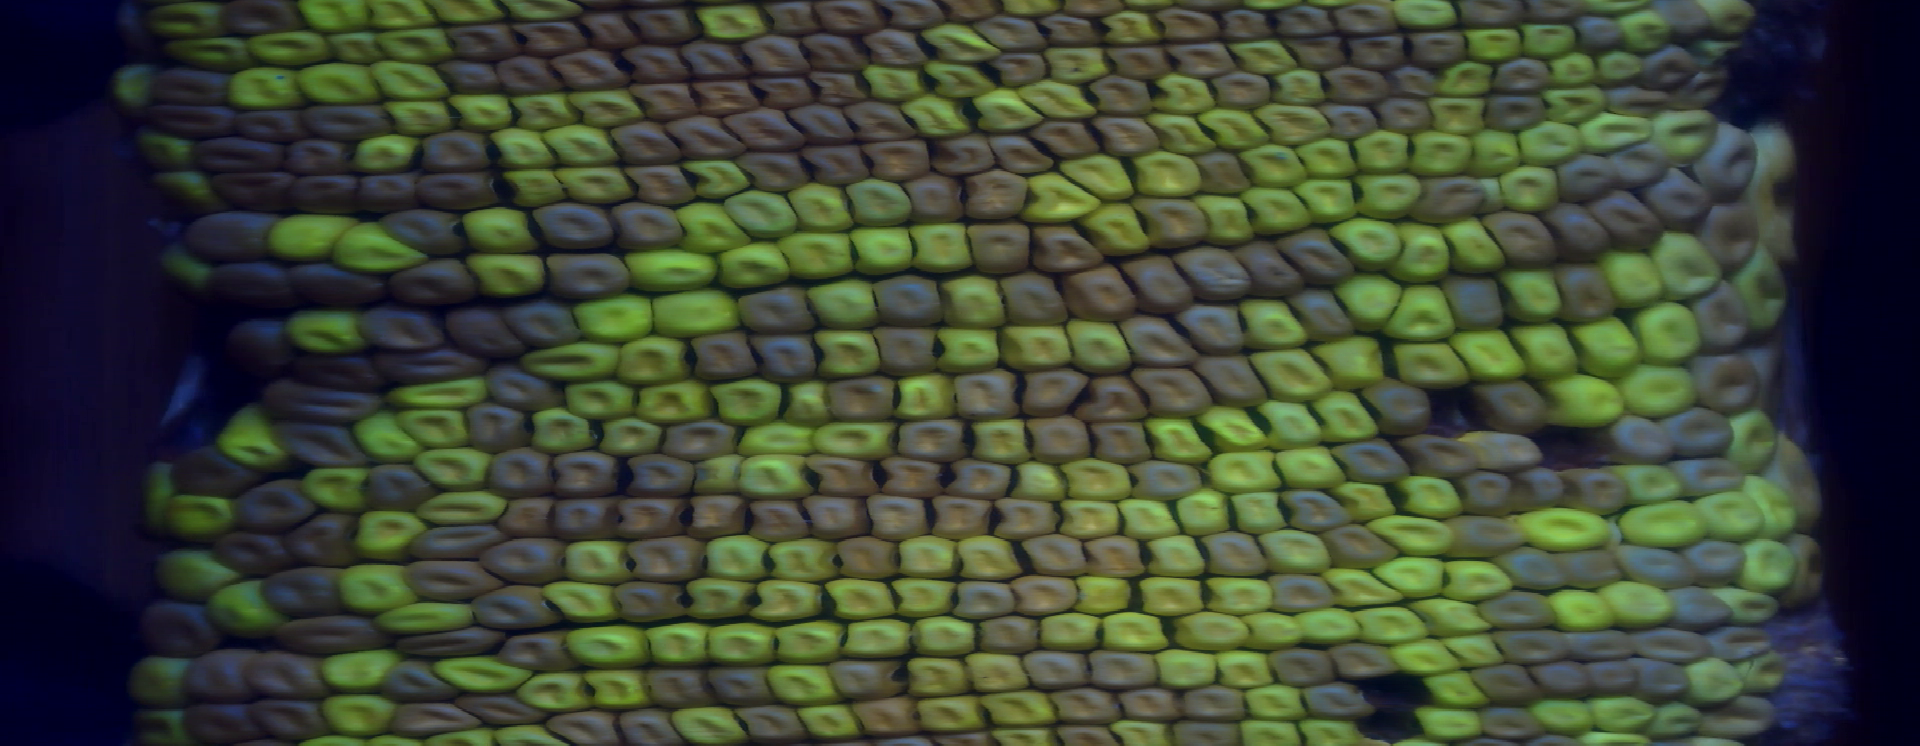fluorescent: (211, 394, 296, 479), (198, 575, 302, 643), (144, 544, 251, 610), (1647, 225, 1731, 307), (320, 218, 437, 277), (1727, 239, 1793, 341), (278, 300, 381, 363), (261, 207, 367, 267), (1626, 296, 1708, 372), (1512, 503, 1622, 560), (618, 241, 729, 296), (333, 559, 432, 620), (1442, 325, 1536, 390), (1245, 341, 1338, 405), (1615, 360, 1708, 425), (563, 287, 665, 345), (1614, 494, 1716, 552), (513, 334, 628, 386), (1379, 216, 1460, 288), (648, 283, 748, 341), (1538, 370, 1629, 434), (1058, 311, 1139, 382), (800, 271, 889, 334), (1566, 310, 1644, 382), (1330, 267, 1411, 337), (1385, 334, 1477, 396), (118, 650, 203, 715), (669, 197, 759, 258), (1018, 167, 1108, 228), (1491, 262, 1573, 330), (1380, 281, 1464, 345), (1309, 330, 1393, 394), (347, 505, 432, 568), (424, 650, 535, 699), (1504, 317, 1584, 385), (718, 185, 808, 245), (933, 268, 1015, 334), (1075, 195, 1158, 260), (1326, 213, 1411, 277), (380, 370, 495, 416), (538, 575, 631, 632), (457, 247, 553, 303), (456, 201, 546, 260), (1232, 290, 1316, 353), (1593, 245, 1673, 311), (770, 229, 863, 285), (1367, 511, 1466, 563), (806, 325, 893, 385), (316, 643, 413, 697), (1438, 212, 1513, 281), (1641, 104, 1720, 169), (913, 17, 1011, 70), (291, 56, 387, 110), (1692, 484, 1773, 548), (409, 483, 516, 530), (293, 463, 381, 521), (993, 320, 1085, 375), (156, 29, 258, 78), (611, 331, 697, 390), (887, 369, 969, 430), (350, 407, 429, 470), (560, 622, 659, 673), (628, 375, 720, 429), (408, 443, 500, 497), (313, 690, 405, 744), (840, 220, 922, 281), (1013, 75, 1106, 127), (1247, 99, 1340, 152), (1735, 469, 1802, 541), (1596, 577, 1680, 635), (1718, 404, 1784, 478), (703, 372, 785, 431), (784, 176, 861, 239), (696, 529, 775, 589), (1189, 189, 1262, 254), (713, 236, 793, 295), (732, 450, 820, 503), (560, 532, 640, 590), (574, 665, 666, 717), (1543, 582, 1625, 639), (767, 616, 856, 669), (1128, 148, 1211, 205), (1234, 183, 1318, 239), (1407, 592, 1494, 646), (1349, 165, 1429, 224), (364, 56, 457, 107), (1139, 107, 1223, 162), (638, 617, 719, 675), (1253, 394, 1333, 452), (1138, 412, 1218, 469), (1273, 440, 1354, 497), (1138, 528, 1218, 586), (1056, 148, 1138, 205), (763, 533, 849, 587), (1608, 456, 1693, 510), (1573, 108, 1665, 158), (840, 174, 918, 233), (369, 599, 482, 639), (759, 660, 849, 712), (158, 490, 241, 545), (560, 375, 647, 428), (746, 576, 833, 628), (700, 619, 787, 671), (902, 220, 980, 279), (965, 413, 1042, 472), (1234, 138, 1311, 197), (223, 62, 309, 115), (538, 120, 623, 173), (1319, 561, 1411, 610), (511, 665, 600, 715), (949, 530, 1029, 587), (931, 323, 1011, 379), (808, 418, 901, 465), (1311, 386, 1382, 448), (1201, 447, 1289, 497), (675, 156, 760, 207), (893, 530, 972, 586), (1096, 605, 1176, 660), (1258, 526, 1337, 581), (550, 160, 639, 209), (1393, 469, 1469, 527), (816, 575, 902, 625), (678, 575, 765, 625), (1057, 454, 1138, 508), (976, 685, 1067, 733), (523, 403, 598, 461), (485, 122, 564, 176), (1404, 124, 1480, 180), (1438, 555, 1518, 608), (1373, 551, 1453, 604), (1198, 403, 1275, 458), (966, 85, 1048, 136), (1222, 33, 1304, 85), (1738, 534, 1802, 599), (389, 404, 478, 452), (146, 167, 231, 216), (131, 456, 180, 541), (343, 130, 422, 183), (884, 572, 964, 625), (1109, 495, 1187, 549), (898, 650, 980, 701), (731, 415, 822, 461), (1682, 653, 1753, 710), (1512, 118, 1589, 170), (904, 614, 984, 664), (103, 58, 167, 121), (917, 56, 1007, 102), (664, 702, 756, 746), (911, 690, 996, 737), (1048, 494, 1127, 545), (1291, 176, 1365, 230), (1706, 581, 1788, 630), (1174, 606, 1254, 657), (1582, 690, 1665, 737), (1173, 483, 1238, 544), (153, 236, 219, 296), (503, 88, 584, 137), (1133, 572, 1211, 622), (958, 650, 1040, 698), (593, 410, 669, 462), (1033, 608, 1109, 659), (1147, 69, 1223, 120), (1353, 603, 1433, 652), (1000, 454, 1073, 508), (141, 1, 231, 44), (242, 28, 336, 70), (689, 2, 773, 49), (836, 615, 920, 661), (1349, 125, 1419, 180), (377, 93, 462, 138), (562, 85, 648, 129), (1064, 568, 1138, 620), (1538, 81, 1615, 130), (129, 125, 203, 175), (855, 60, 933, 108), (1202, 572, 1281, 620), (373, 23, 460, 66), (898, 93, 973, 142), (1382, 632, 1464, 677), (1462, 125, 1529, 180), (1524, 693, 1604, 740), (1420, 92, 1494, 142), (493, 165, 574, 211), (1329, 474, 1400, 526), (791, 699, 869, 746), (1408, 701, 1493, 744), (1191, 105, 1273, 149), (1293, 134, 1367, 183), (778, 375, 840, 432), (1420, 668, 1498, 714), (1152, 646, 1227, 693), (444, 88, 517, 137), (1209, 644, 1278, 695), (1291, 605, 1368, 650), (1436, 630, 1513, 675), (1267, 62, 1338, 111), (1238, 679, 1313, 725), (1040, 43, 1116, 88), (1238, 608, 1313, 653), (1227, 488, 1291, 540), (684, 450, 752, 499), (289, 1, 381, 37), (1096, 5, 1163, 53), (1730, 646, 1789, 699), (1611, 5, 1673, 56), (1682, 32, 1750, 78), (1512, 20, 1583, 64), (1695, 1, 1763, 47), (127, 703, 200, 746), (1458, 24, 1528, 69), (1433, 58, 1502, 102), (358, 1, 442, 37), (321, 27, 391, 67), (1643, 699, 1707, 742), (1389, 1, 1467, 34), (1588, 45, 1647, 89), (418, 1, 509, 29), (1545, 50, 1607, 91), (1104, 713, 1178, 746), (1233, 715, 1311, 746), (1292, 714, 1367, 746), (489, 720, 568, 746), (988, 722, 1067, 746)
nonfluorescent: (1739, 115, 1809, 268), (256, 370, 394, 431), (1760, 428, 1831, 535), (264, 608, 396, 660), (198, 254, 306, 316), (264, 414, 373, 475), (130, 595, 225, 665), (397, 554, 509, 612), (280, 256, 391, 316), (178, 203, 280, 267), (538, 246, 640, 310), (217, 310, 302, 386), (1584, 183, 1671, 257), (351, 296, 453, 360), (1273, 222, 1365, 292), (528, 194, 624, 260), (164, 440, 264, 503), (1690, 118, 1763, 205), (253, 562, 355, 625), (438, 299, 534, 365), (238, 646, 338, 708), (467, 579, 569, 639), (1680, 349, 1768, 419), (1478, 206, 1567, 274), (1695, 192, 1763, 281), (1684, 274, 1757, 356), (387, 254, 487, 314), (1118, 247, 1202, 318), (1536, 198, 1621, 268), (1640, 164, 1720, 238), (1058, 257, 1142, 327), (1022, 218, 1113, 283), (1127, 190, 1216, 255), (731, 281, 823, 343), (370, 342, 490, 390), (386, 621, 516, 665), (224, 477, 318, 537), (478, 358, 576, 415), (1169, 241, 1258, 305), (1127, 363, 1220, 423), (866, 269, 951, 334), (208, 526, 302, 584), (1113, 309, 1207, 367), (1229, 235, 1311, 303), (376, 205, 474, 261), (478, 533, 573, 590), (1549, 257, 1625, 330), (176, 646, 261, 710), (200, 165, 304, 218), (1469, 375, 1556, 437), (1656, 402, 1742, 464), (1360, 375, 1442, 441), (403, 514, 511, 565), (996, 265, 1075, 332), (605, 194, 691, 256), (278, 508, 364, 571), (448, 682, 552, 734), (373, 654, 468, 710), (962, 212, 1040, 281), (1329, 432, 1420, 490), (1434, 271, 1512, 338), (622, 530, 718, 586), (1171, 299, 1253, 363), (609, 575, 697, 633), (500, 294, 584, 355), (1736, 325, 1793, 416), (893, 412, 980, 470), (287, 347, 393, 394), (720, 103, 814, 157), (659, 111, 753, 165), (1610, 540, 1704, 594), (1453, 425, 1548, 479), (1189, 352, 1272, 412), (867, 320, 948, 381), (1393, 428, 1485, 481), (698, 657, 784, 714), (638, 661, 727, 717), (1015, 363, 1097, 423), (820, 654, 916, 706), (1283, 284, 1360, 348), (382, 695, 487, 741), (1773, 526, 1829, 612), (1018, 526, 1096, 588), (1409, 171, 1493, 230), (1020, 409, 1101, 469), (1603, 412, 1684, 472), (182, 134, 289, 179), (361, 457, 443, 516), (793, 135, 876, 194), (959, 164, 1037, 225), (1435, 511, 1533, 560), (542, 45, 638, 96), (298, 100, 398, 148), (1067, 371, 1153, 426), (546, 445, 626, 505), (822, 369, 902, 428), (1488, 541, 1576, 595), (136, 100, 246, 143), (947, 364, 1024, 425), (249, 695, 340, 746), (459, 399, 538, 459), (1550, 149, 1629, 209), (411, 167, 507, 216), (743, 330, 823, 388), (793, 488, 873, 546), (616, 158, 704, 211), (1043, 680, 1131, 733), (980, 126, 1062, 183), (616, 448, 702, 502), (546, 492, 632, 546), (178, 697, 272, 746), (1318, 521, 1403, 575), (491, 628, 583, 679), (988, 492, 1067, 551), (481, 443, 558, 502), (800, 450, 888, 501), (858, 490, 940, 545), (839, 96, 924, 148), (899, 168, 971, 230), (733, 145, 817, 198), (1273, 483, 1357, 537), (609, 491, 693, 544), (1082, 643, 1167, 696), (282, 167, 364, 220), (740, 494, 818, 550), (872, 450, 951, 505), (735, 32, 818, 85), (605, 119, 688, 171), (1693, 691, 1783, 740), (1622, 653, 1698, 710), (969, 10, 1056, 60), (658, 414, 742, 465), (1123, 454, 1207, 506), (688, 327, 762, 386), (1680, 535, 1753, 594), (842, 692, 928, 742), (1262, 642, 1346, 693), (1664, 452, 1756, 499), (1476, 586, 1562, 635), (1553, 463, 1633, 516), (1003, 571, 1087, 621), (1603, 138, 1676, 196), (1660, 583, 1742, 635), (144, 65, 238, 110), (1622, 624, 1716, 669), (617, 40, 703, 89), (348, 167, 427, 219), (927, 488, 997, 548), (725, 699, 814, 746), (1468, 660, 1549, 712), (440, 20, 524, 69), (1078, 529, 1151, 586), (104, 1, 169, 65), (860, 135, 938, 187), (1195, 527, 1273, 579), (784, 99, 863, 151), (1082, 71, 1163, 121), (1664, 55, 1731, 115), (1318, 60, 1396, 111), (680, 490, 752, 545), (1084, 416, 1156, 472), (214, 1, 310, 43), (831, 532, 905, 586), (1016, 646, 1097, 695), (1633, 43, 1702, 100), (418, 127, 496, 178), (1296, 676, 1378, 724), (940, 454, 1016, 506), (1400, 22, 1476, 73), (1086, 111, 1166, 160), (931, 130, 1003, 184), (1160, 37, 1243, 83), (276, 134, 356, 181), (1187, 145, 1256, 200), (228, 105, 317, 148), (1547, 545, 1629, 592), (860, 24, 936, 75), (678, 37, 754, 87), (622, 1, 702, 49), (491, 50, 564, 102), (1261, 570, 1338, 619), (1024, 116, 1104, 163), (947, 577, 1021, 627), (1487, 625, 1573, 668), (507, 16, 591, 60), (798, 29, 874, 78), (1449, 465, 1517, 519), (1479, 88, 1553, 138), (1523, 657, 1600, 704), (1468, 701, 1554, 744), (744, 69, 819, 118), (624, 78, 703, 125), (687, 73, 765, 120), (1176, 680, 1254, 726), (1485, 54, 1559, 103), (1342, 26, 1412, 77), (1206, 65, 1277, 115), (1111, 682, 1187, 729), (435, 55, 508, 103), (497, 490, 561, 545), (973, 612, 1047, 660), (1324, 639, 1403, 684), (541, 706, 627, 746), (571, 7, 647, 53), (1100, 40, 1176, 86), (1313, 98, 1386, 145), (613, 704, 696, 746), (1698, 620, 1776, 664), (1648, 1, 1725, 45), (803, 65, 874, 111), (807, 1, 890, 40), (981, 48, 1054, 92), (1282, 29, 1353, 75), (1371, 93, 1440, 140), (1033, 10, 1106, 54), (1506, 465, 1571, 514), (1152, 2, 1223, 47), (1561, 626, 1641, 665), (1599, 81, 1674, 122), (1569, 10, 1632, 58), (1580, 657, 1644, 703), (1327, 1, 1403, 40), (1216, 5, 1281, 48), (869, 1, 948, 36), (760, 1, 830, 39), (1271, 2, 1340, 40), (1381, 62, 1442, 104), (1453, 1, 1534, 32), (1164, 717, 1248, 746), (1046, 718, 1124, 746), (1518, 1, 1589, 28)
